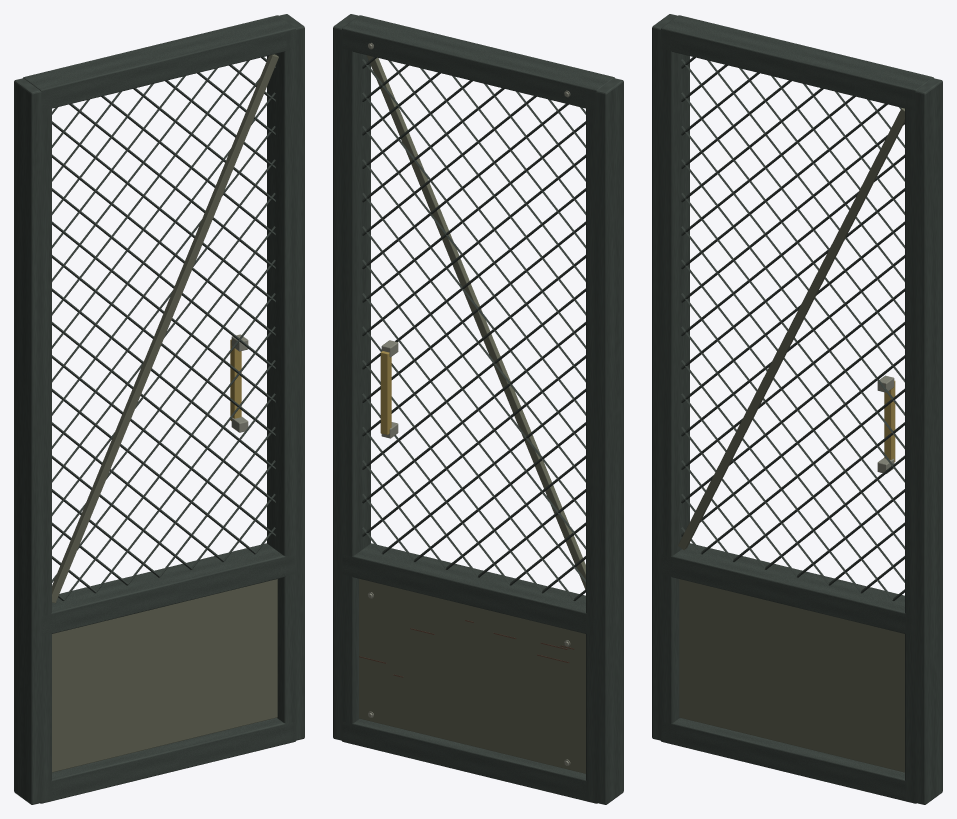
The model's file is ELEVATOR_DoorLeft.fbx.
3 renders of one model, left to right at view 1: azimuth 30°, elevation 25°; view 2: azimuth 150°, elevation 25°; view 3: azimuth 330°, elevation 25°, orthographic.
Parts seen in each view (by area): view 1: ELEVATOR_DoorLeft_Mesh; view 2: ELEVATOR_DoorLeft_Mesh; view 3: ELEVATOR_DoorLeft_Mesh.
Part boxes in pixels (x1=…): ELEVATOR_DoorLeft_Mesh: x1=14, y1=14, x2=304, y2=804; ELEVATOR_DoorLeft_Mesh: x1=333, y1=14, x2=623, y2=804; ELEVATOR_DoorLeft_Mesh: x1=652, y1=14, x2=942, y2=804.
Size of the model in its own units: 1.2 by 2.99 by 0.1485.
